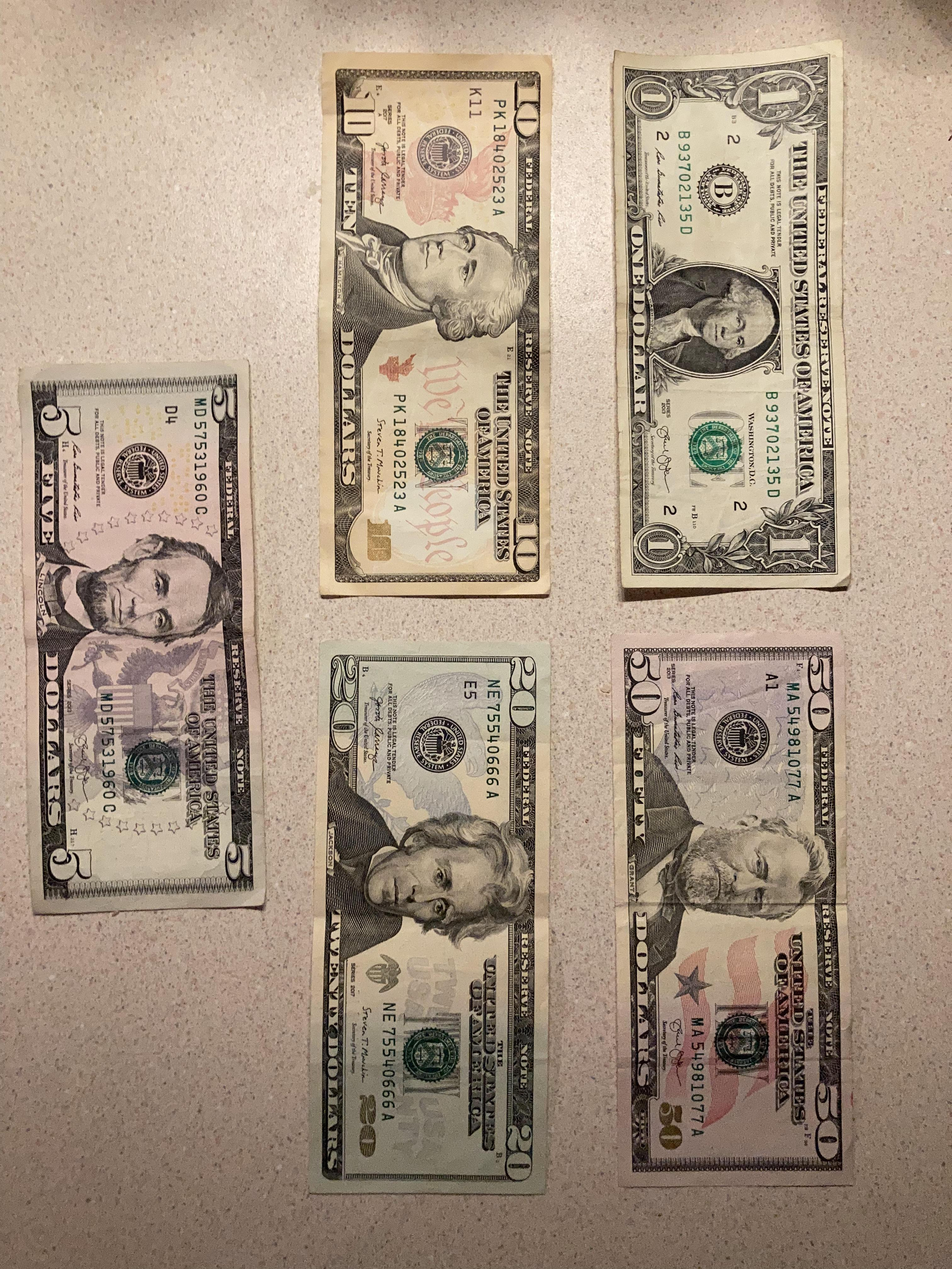fifty-front: (610, 627, 858, 1190)
five-front: (20, 360, 269, 919)
one-front: (610, 40, 855, 592)
ten-front: (317, 51, 554, 598)
twenty-front: (306, 640, 553, 1196)
